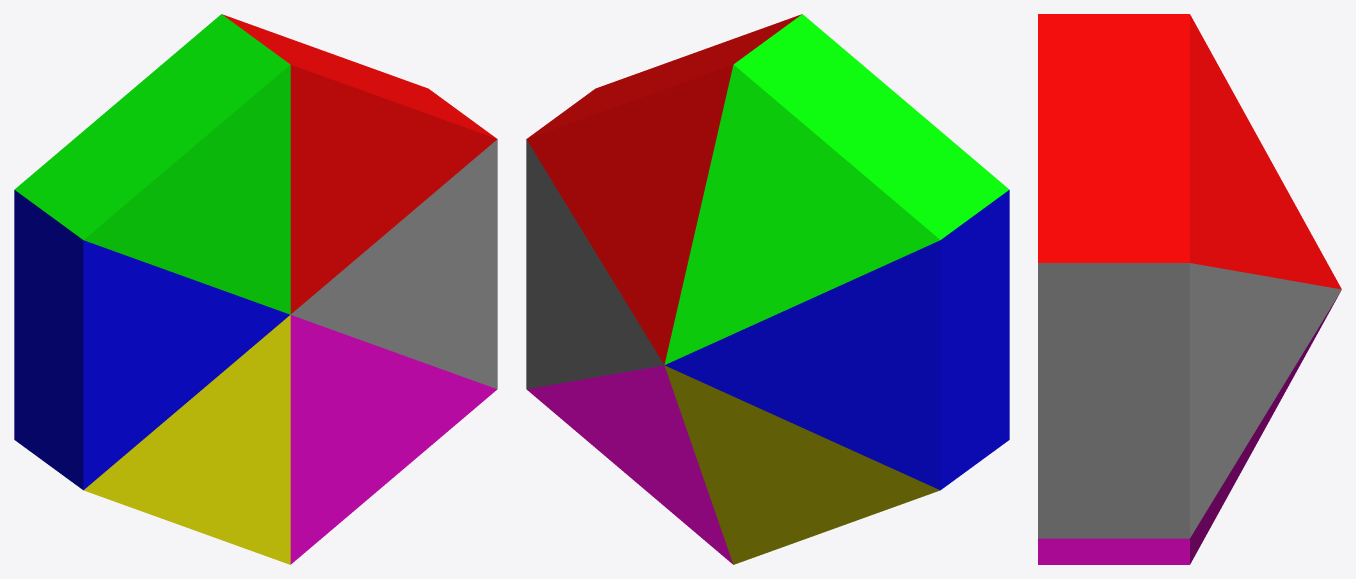
File: hexanode_picking.obj
3 views of the same model, side by side, from view 1: azimuth 30°, elevation 25°; view 2: azimuth 150°, elevation 25°; view 3: azimuth 270°, elevation 25° (orthographic). The views are drawn at different scales.
Visible parts, largest first — view 1: hexanode_picking; view 2: hexanode_picking; view 3: hexanode_picking.
Boxes of the visible parts, <box> form: hexanode_picking: <box>14,14,497,564</box>; hexanode_picking: <box>526,14,1009,564</box>; hexanode_picking: <box>1038,14,1341,564</box>.
Size of the model in its own units: 43.3 by 50 by 25.
